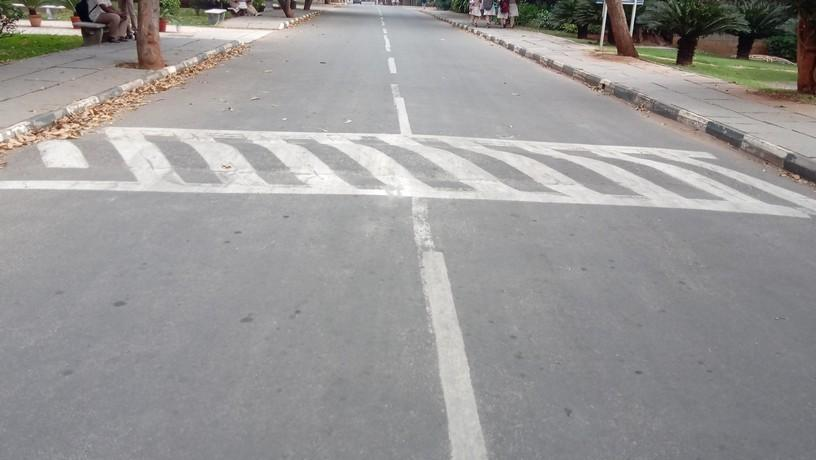speed-bump: (0, 124, 816, 215)
